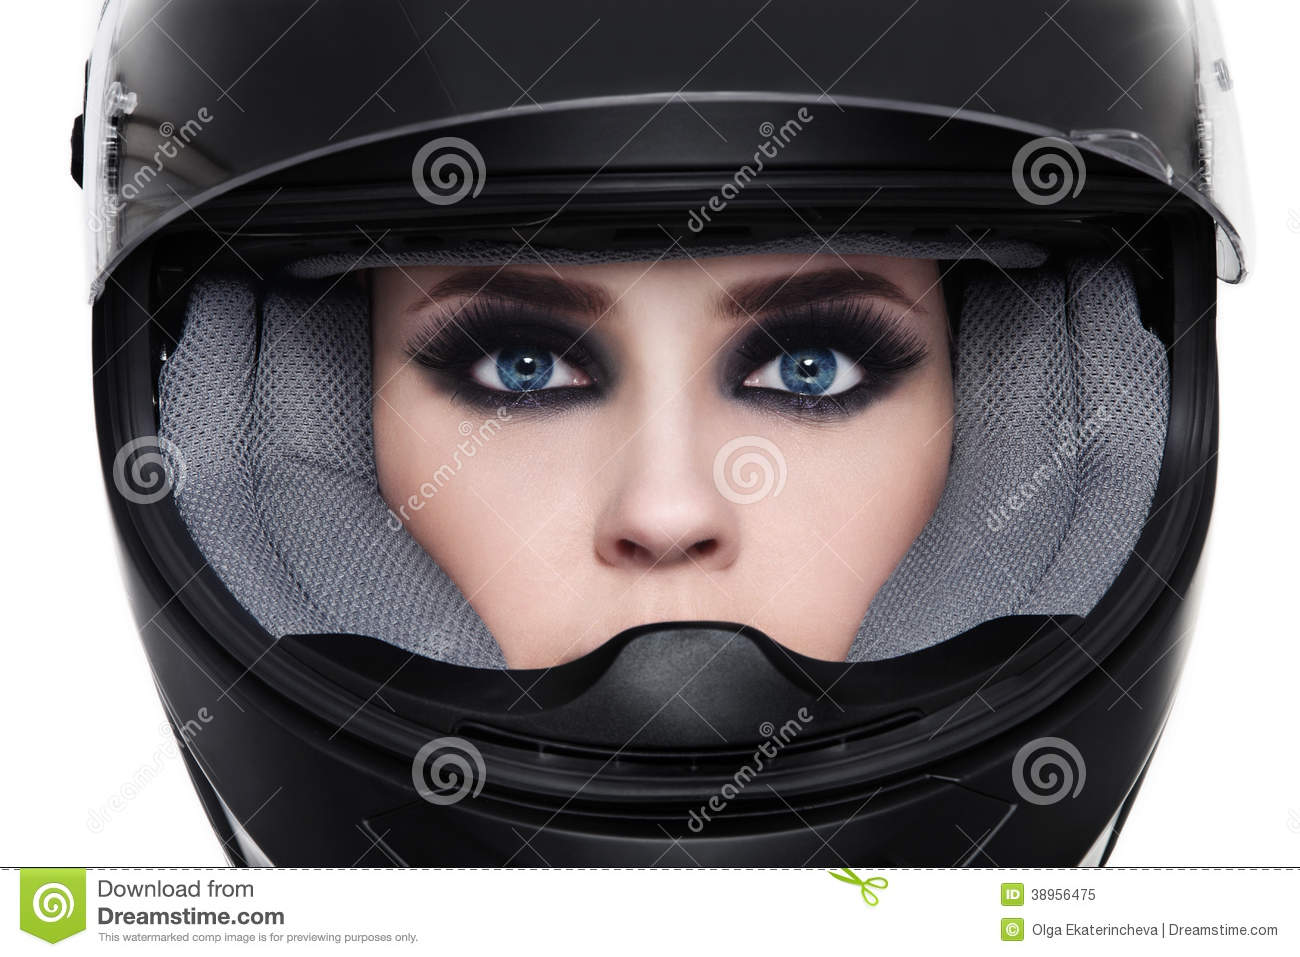helmet: (87, 7, 1201, 870)
